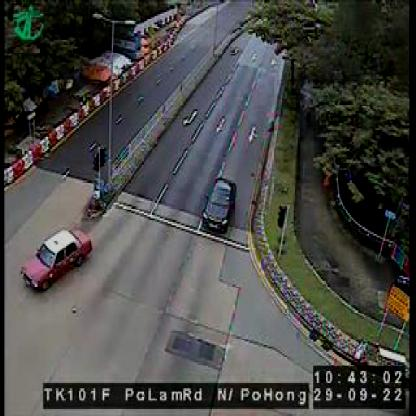Car: (18, 227, 92, 295), (199, 175, 237, 231)
